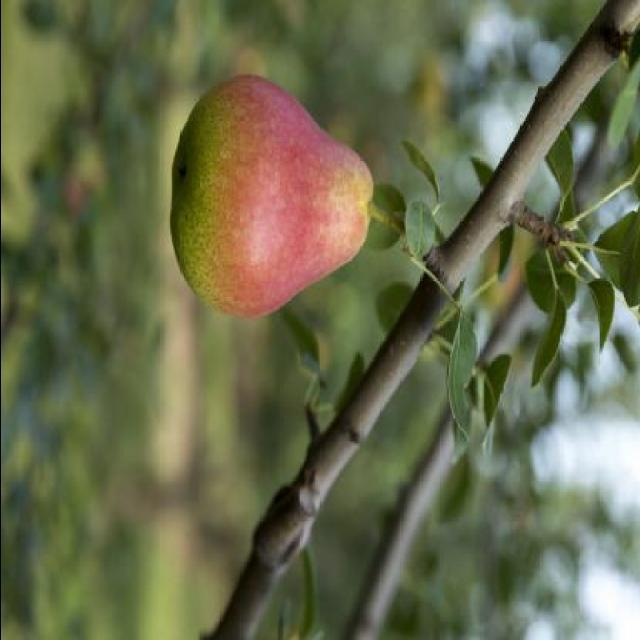Pear: (168, 75, 372, 317)
